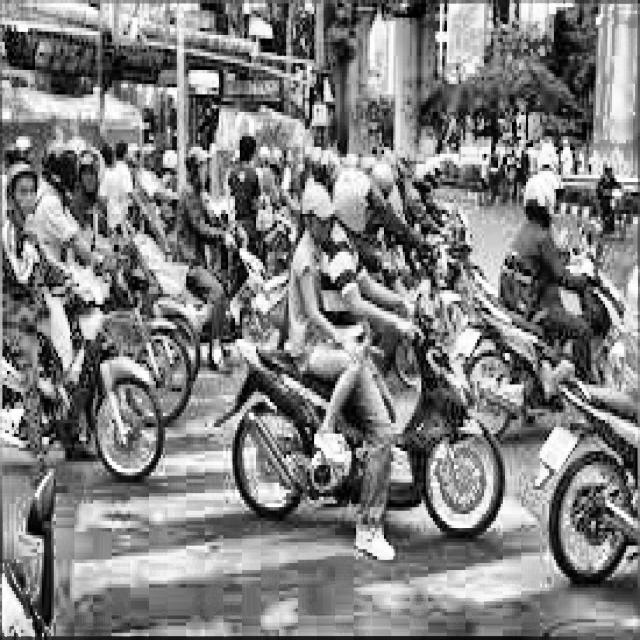Helmet: (336, 134, 381, 255), (523, 159, 563, 249), (0, 151, 48, 225)
